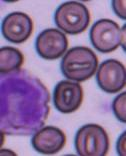N: (0, 68, 49, 136)
